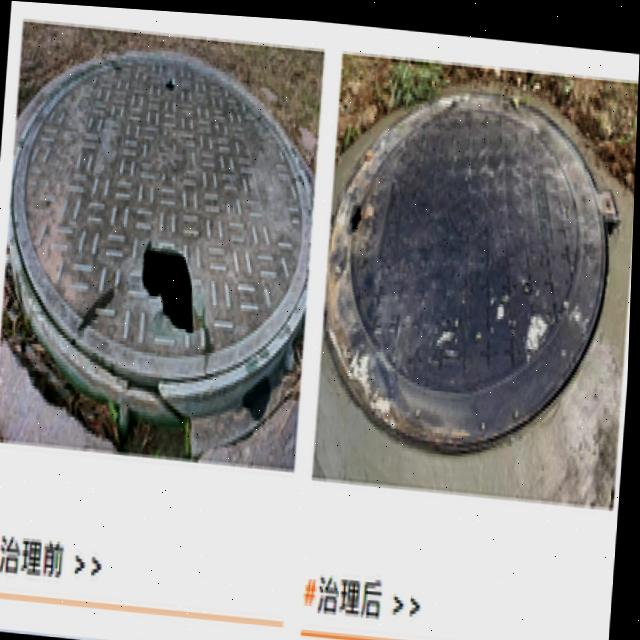manhole: (0, 23, 321, 420)
